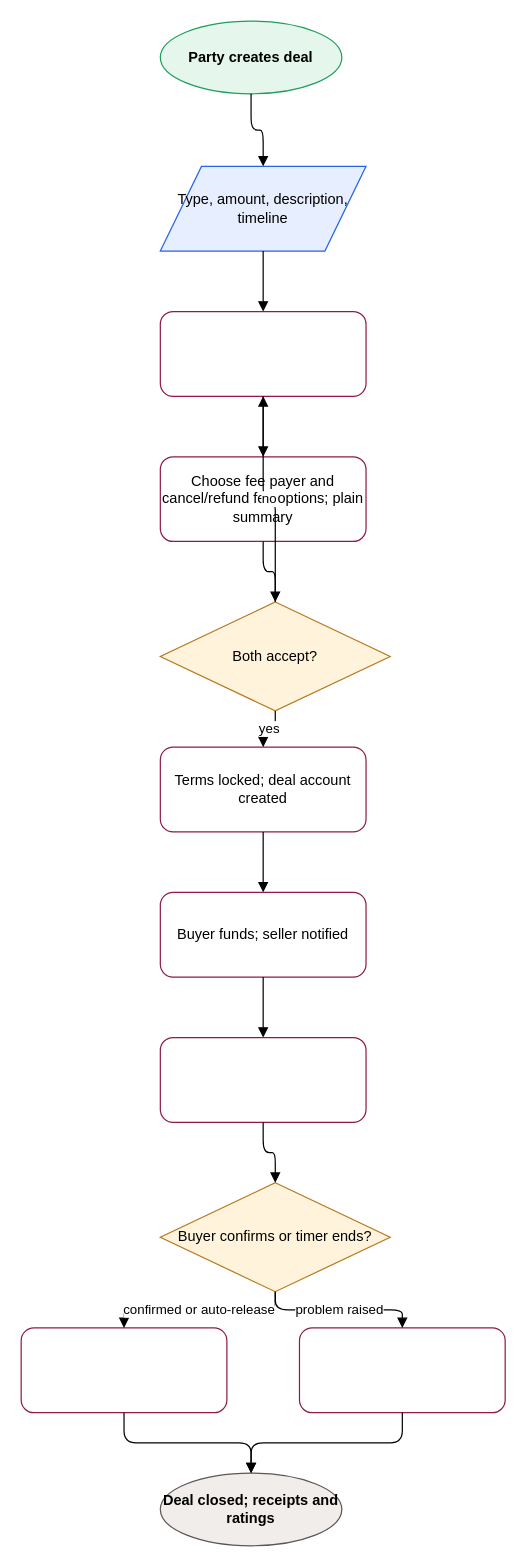
The diagram is 526 pixels wide and 1567 high, and some of its shapes have lost their labels. The shapes that lost their labels are listed below. From the top down, each one's centre as x and y in pixels, then its label:
At [262,353]: "Invite counterparty; negotiate terms".
At [262,1079]: "Seller ships; proof and delivery code".
At [123,1370]: "Release to seller less fees".
At [401,1370]: "Dispute path".
